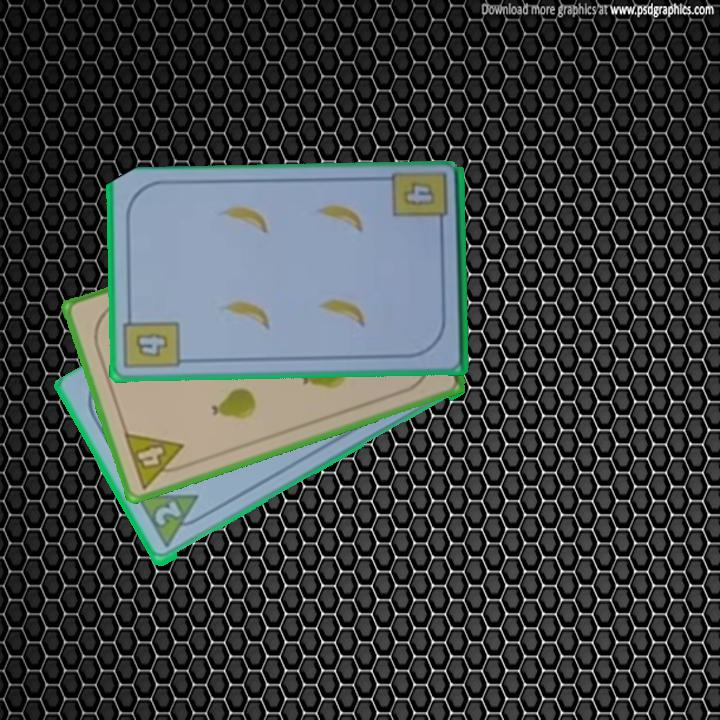2p: (150, 498, 184, 529)
4b: (120, 308, 182, 373), (399, 178, 438, 209)
4p: (120, 429, 193, 492)
